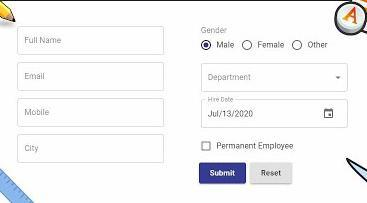button: (200, 162, 247, 185), (250, 163, 294, 186)
checkbox: (202, 142, 212, 152)
dropdown: (201, 63, 350, 94)
input: (17, 133, 166, 164), (16, 98, 166, 128), (17, 27, 166, 57), (17, 63, 166, 93), (202, 100, 349, 129)
label: (218, 141, 296, 151), (201, 27, 229, 36), (258, 41, 285, 49), (307, 42, 328, 50), (323, 108, 335, 120), (217, 42, 235, 49)
radio: (202, 41, 214, 51), (243, 40, 253, 52), (293, 41, 303, 52)
